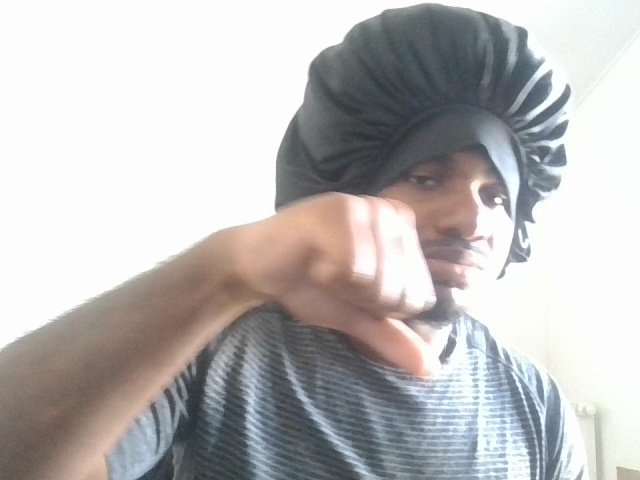Yes: (151, 165, 457, 390)
